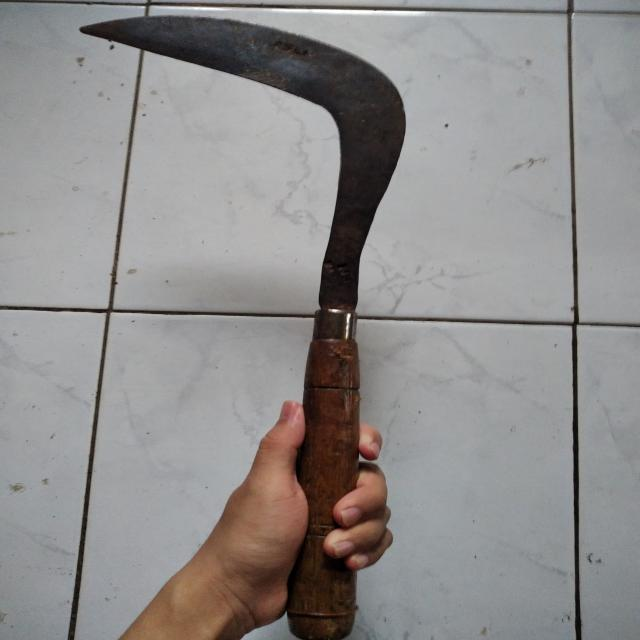Celurit: (81, 13, 409, 640)
